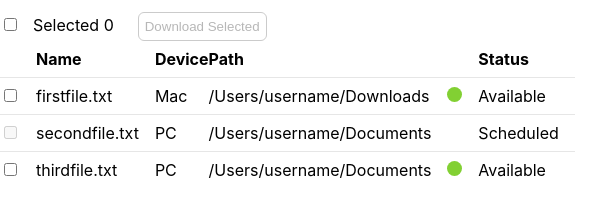
Test case: Select all @integration › toggles files from selected to unselected
// Toggles all available files to selected
Click the checkbox with test id "selectAllCheckbox" at (10, 24), box [4,18,17,31]
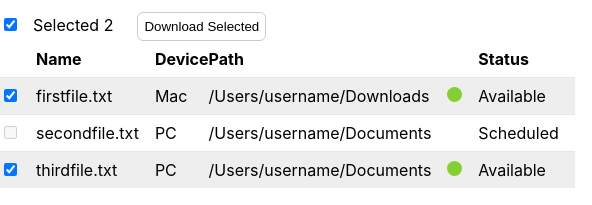
Expected: the checkbox with test id "rowCheckbox" next to "secondfile.txt" is not checked, [4,126,17,139]
Now the checkbox with test id "rowCheckbox" next to "firstfile.txt" is checked, box [4,89,17,102]
Now the checkbox with test id "rowCheckbox" next to "thirdfile.txt" is checked, box [4,163,17,176]
// Toggles all available files to unselected
Click the checkbox with test id "selectAllCheckbox" at (10, 24), box [4,18,17,31]
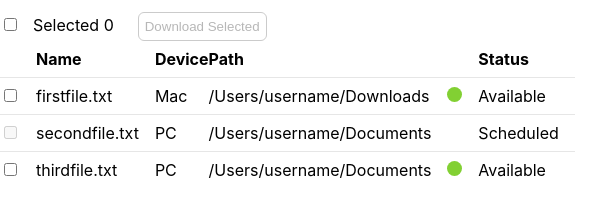
Expected: the checkbox with test id "rowCheckbox" next to "secondfile.txt" is not checked, [4,126,17,139]
Now the checkbox with test id "rowCheckbox" next to "firstfile.txt" is not checked, box [4,89,17,102]
Now the checkbox with test id "rowCheckbox" next to "thirdfile.txt" is not checked, box [4,163,17,176]
